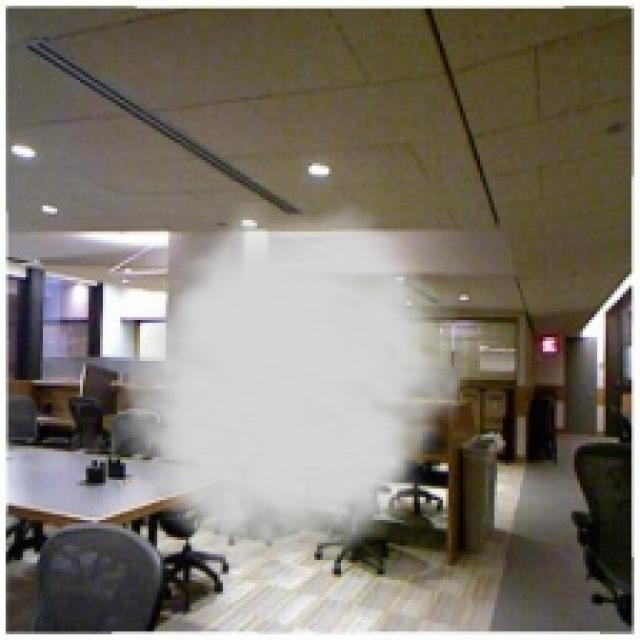Smoke: (103, 203, 480, 580)
